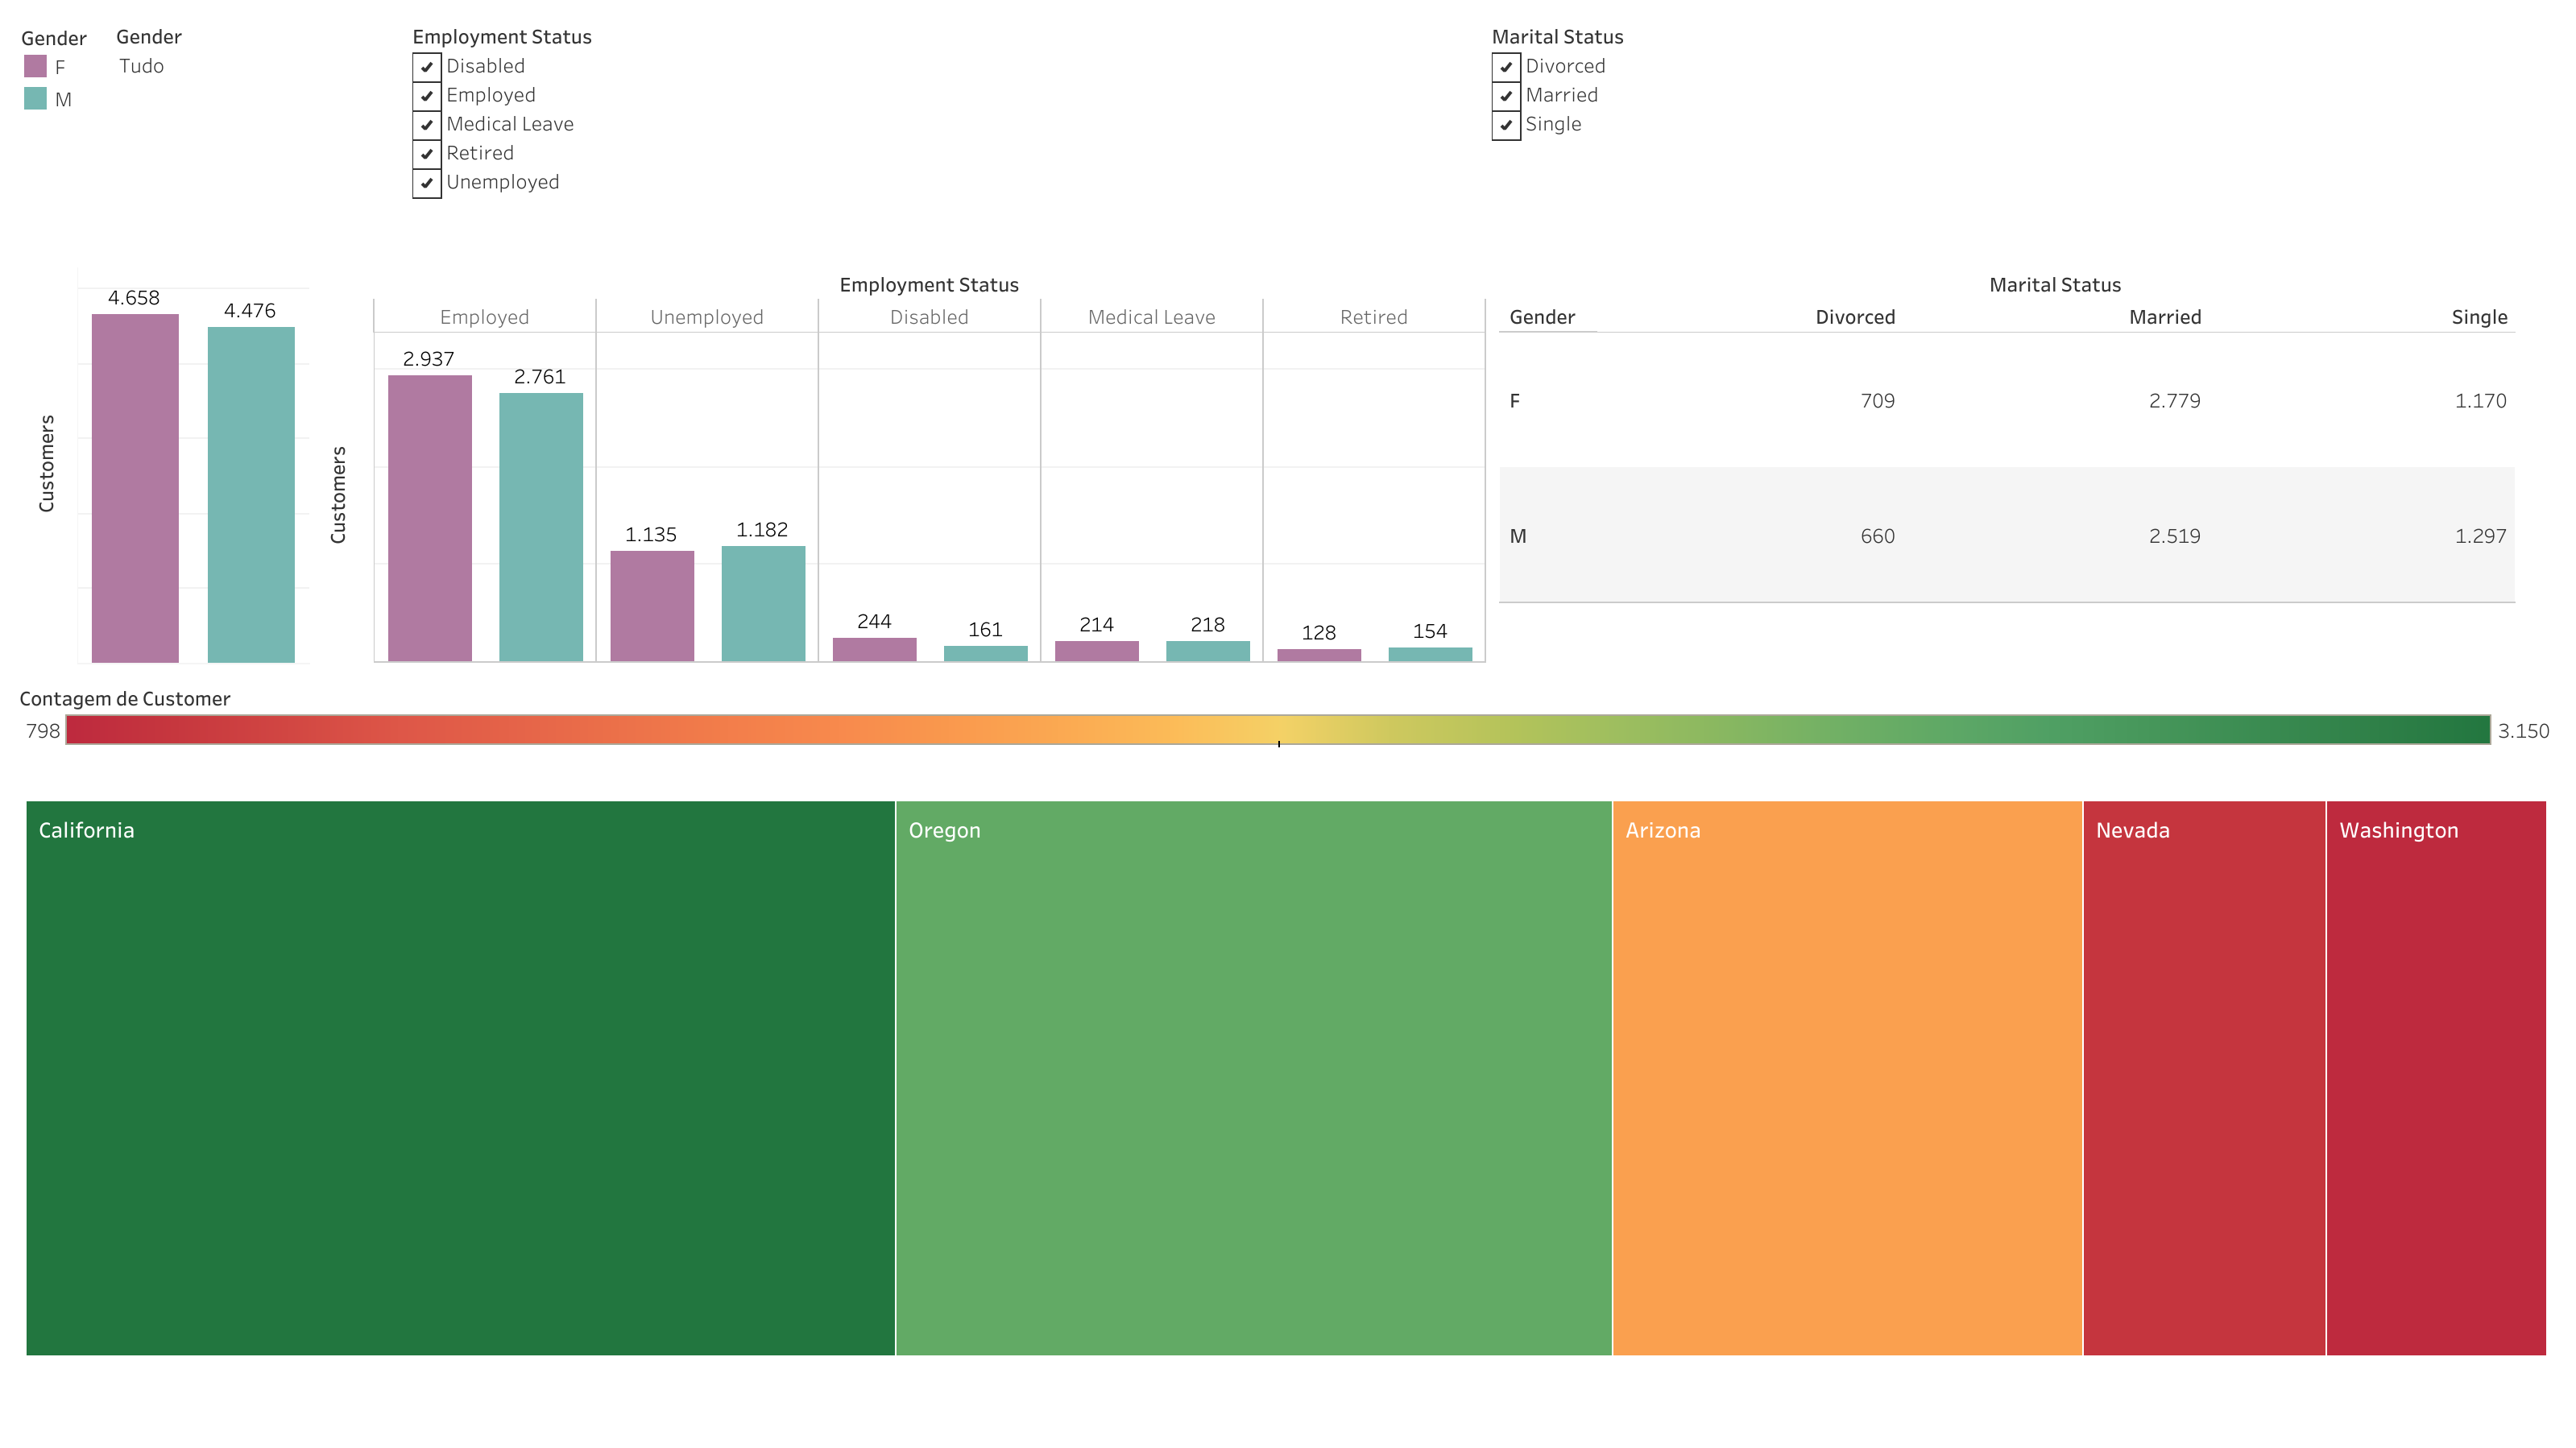

This screenshot's page, from the dashboard's own definition file:
{"tool":"tableau","page":{"name":"Customers_demographics","canvas":[1600,900],"ordinal":0},"visuals":[{"type":"legend","title":"Gender_dist","param":"[federated.12qm0jq1v9c8jz1520z6616sgjel].[none:Gender:nk]","box":[8,8,60,154]},{"type":"filter","title":"Gender_dist","param":"[federated.12qm0jq1v9c8jz1520z6616sgjel].[none:Gender:nk]","box":[68,8,184,154]},{"type":"filter","title":"Employment_gender_dist","param":"[federated.12qm0jq1v9c8jz1520z6616sgjel].[none:EmploymentStatus:nk]","box":[252,8,670,154]},{"type":"filter","title":"Marital_gender_crosstable","param":"[federated.12qm0jq1v9c8jz1520z6616sgjel].[none:Marital Status:nk]","box":[922,8,639,108]},{"type":"worksheet","title":"Gender_dist","mark":"Automatic","rows":["Customer"],"cols":["Gender"],"box":[8,162,188,253.8]},{"type":"worksheet","title":"Employment_gender_dist","mark":"Automatic","rows":["Customer"],"cols":["EmploymentStatus","Gender"],"box":[196,162,731,253.8]},{"type":"worksheet","title":"Marital_gender_crosstable","mark":"Automatic","rows":["Gender"],"cols":["Marital Status"],"box":[927,162,665,217]},{"type":"legend","title":"State_dist","param":"[federated.12qm0jq1v9c8jz1520z6616sgjel].[cnt:Customer:qk]","box":[8,415.8,1584,73.2]},{"type":"worksheet","title":"State_dist","mark":"Automatic","box":[8,489,1584,361]}]}

Visuals, with their boxes in screenshot pixels (x1, y1, x2, y2), scaled from the page's 1600x900 canvas onto the 2576x1448 screenshot:
"Gender_dist" legend: left=13, top=13, right=110, bottom=261
"Gender_dist" filter: left=110, top=13, right=406, bottom=261
"Employment_gender_dist" filter: left=406, top=13, right=1485, bottom=261
"Marital_gender_crosstable" filter: left=1485, top=13, right=2513, bottom=187
"Gender_dist" worksheet: left=13, top=261, right=316, bottom=669
"Employment_gender_dist" worksheet: left=316, top=261, right=1493, bottom=669
"Marital_gender_crosstable" worksheet: left=1493, top=261, right=2563, bottom=610
"State_dist" legend: left=13, top=669, right=2563, bottom=787
"State_dist" worksheet: left=13, top=787, right=2563, bottom=1367
